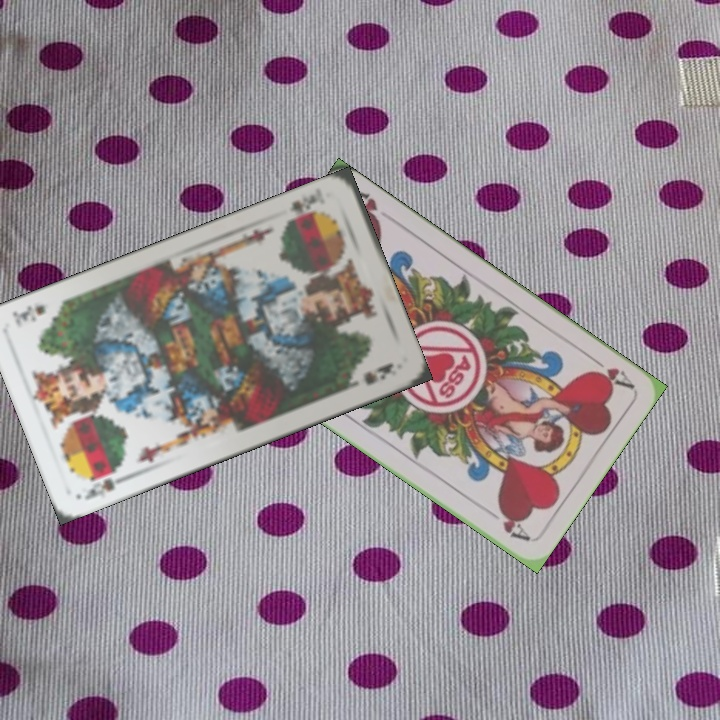HA: (584, 350, 636, 391)
SK: (80, 465, 132, 503), (285, 195, 321, 218)
